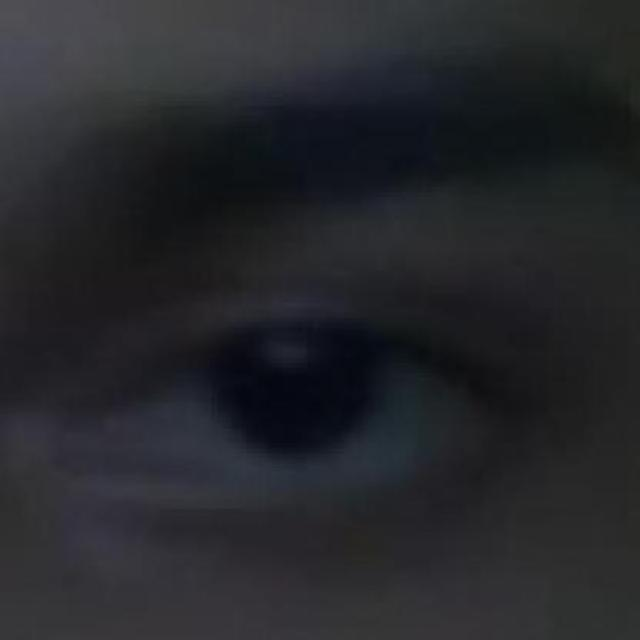awake: (55, 292, 519, 519)
